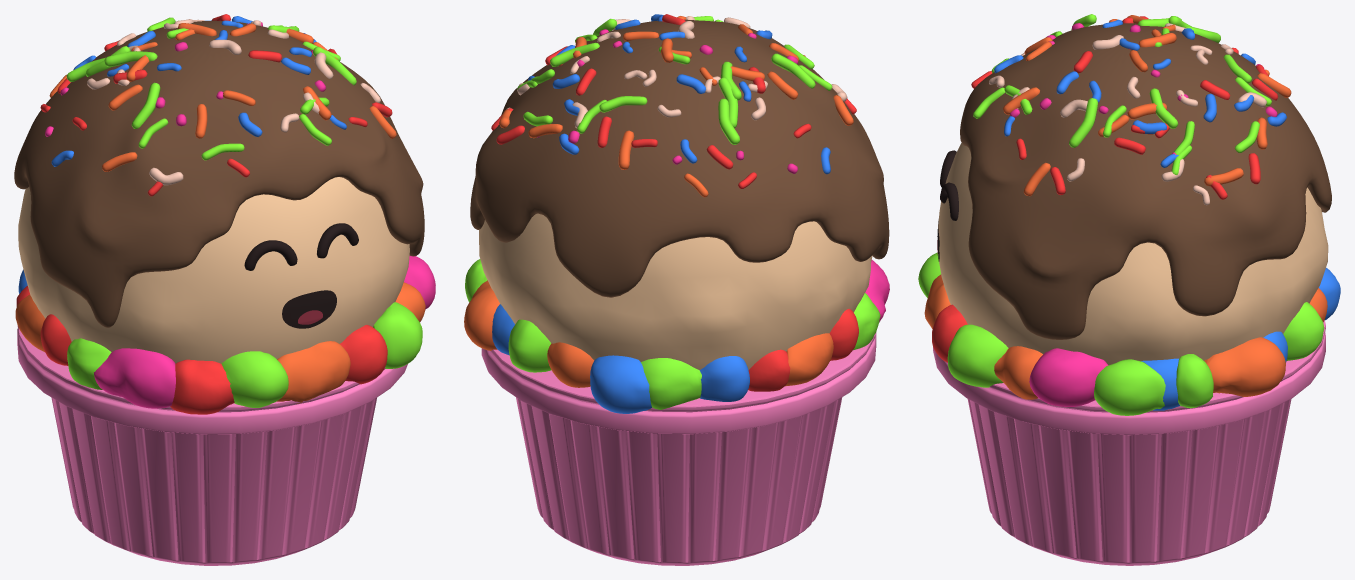
File: cute_ice_cream.glb
The picture shows the model from 3 angles, left to right: view 1: azimuth 30°, elevation 25°; view 2: azimuth 150°, elevation 25°; view 3: azimuth 270°, elevation 25°; orthographic projection.
Parts seen in each view (by area): view 1: Sphere_1, Cylinder_0, Sphere.001_2, Vert.061_6, Circle_5, Plane.005_3; view 2: Sphere_1, Cylinder_0, Sphere.001_2, Vert.061_6; view 3: Sphere_1, Cylinder_0, Sphere.001_2, Vert.061_6, Circle_5.
Boxes of the visible parts, x1,y1,x2,y2 form: Sphere_1: [14, 20, 424, 363]; Cylinder_0: [17, 326, 407, 565]; Sphere.001_2: [15, 256, 435, 414]; Vert.061_6: [40, 14, 396, 196]; Circle_5: [244, 223, 358, 270]; Plane.005_3: [282, 290, 336, 328]; Sphere_1: [470, 19, 889, 370]; Cylinder_0: [481, 332, 876, 565]; Sphere.001_2: [464, 259, 889, 413]; Vert.061_6: [491, 14, 856, 197]; Sphere_1: [938, 23, 1331, 365]; Cylinder_0: [933, 320, 1325, 565]; Sphere.001_2: [918, 252, 1340, 415]; Vert.061_6: [971, 14, 1291, 205]; Circle_5: [940, 150, 958, 220].
Size of the model in its own units: 2.22 by 2.72 by 2.18.
